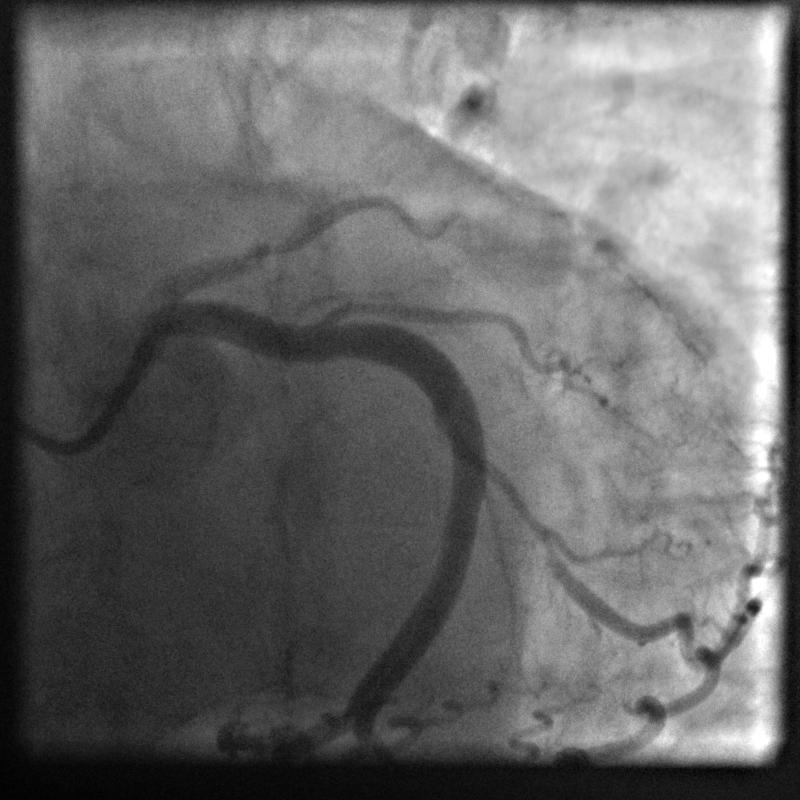Stenosis: (473, 441, 564, 569)
